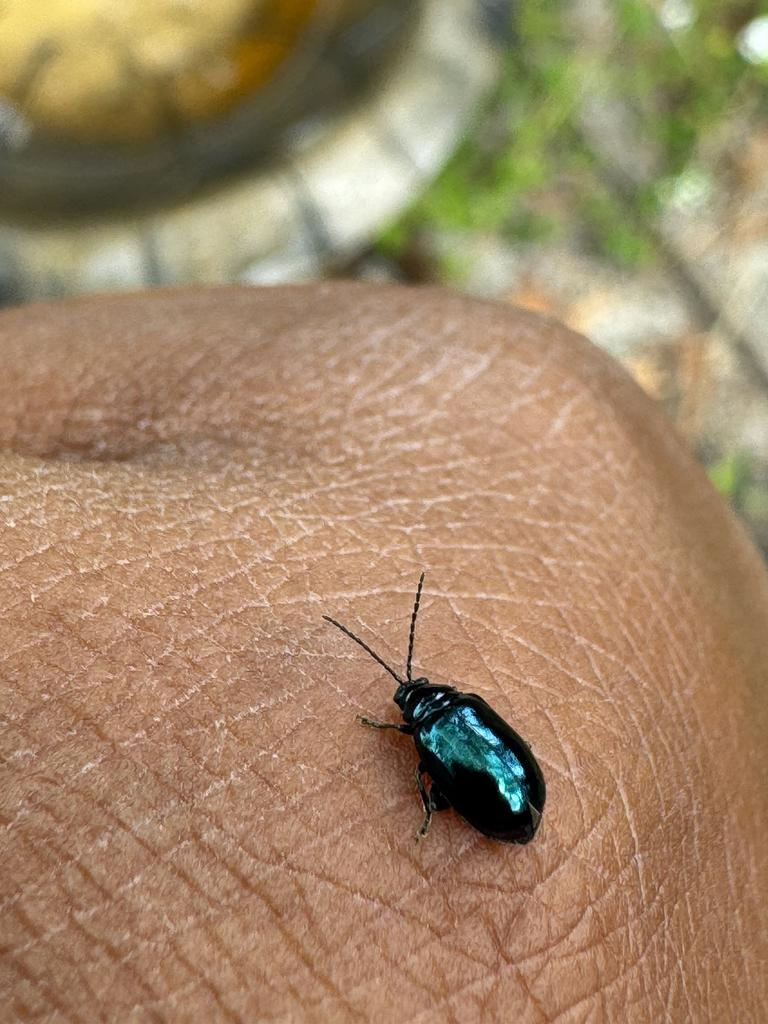flea_beetle: (303, 510, 611, 903)
